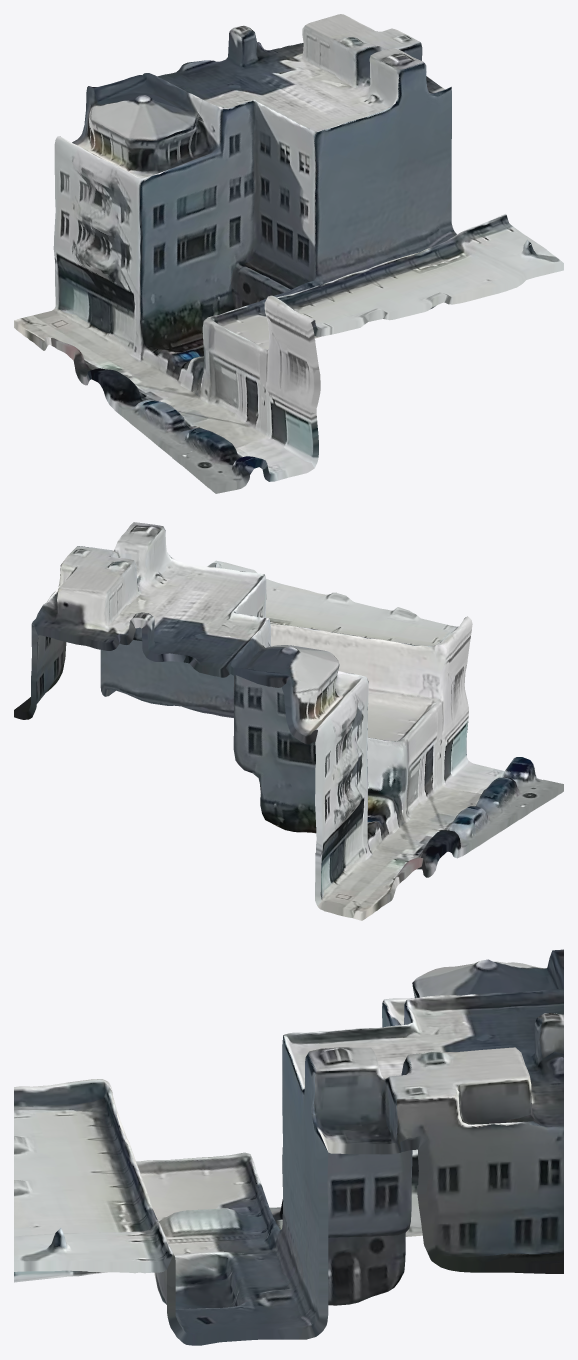
Rendered from z20-167744-405243-h0-yup-uvflip-v3-world.glb.
3 renders of one model, top to bottom at view 1: azimuth 30°, elevation 25°; view 2: azimuth 150°, elevation 25°; view 3: azimuth 270°, elevation 25°, orthographic. The views are drawn at different scales.
Bounding box in the file's own units: 30.16 × 23.16 × 30.32.
Materials: 1 (1 with a texture image).
